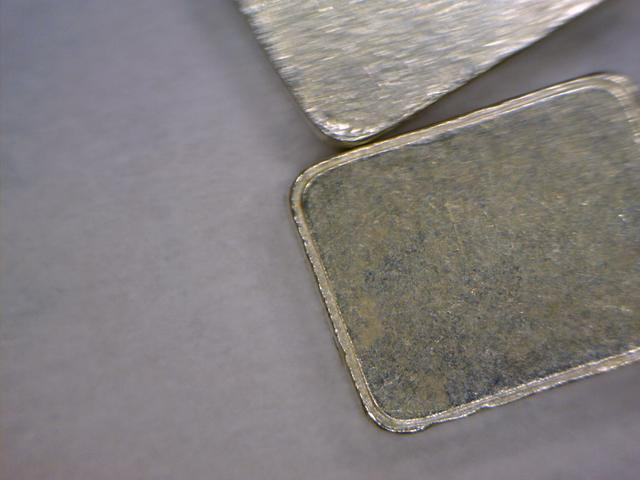nok: (253, 66, 640, 439)
